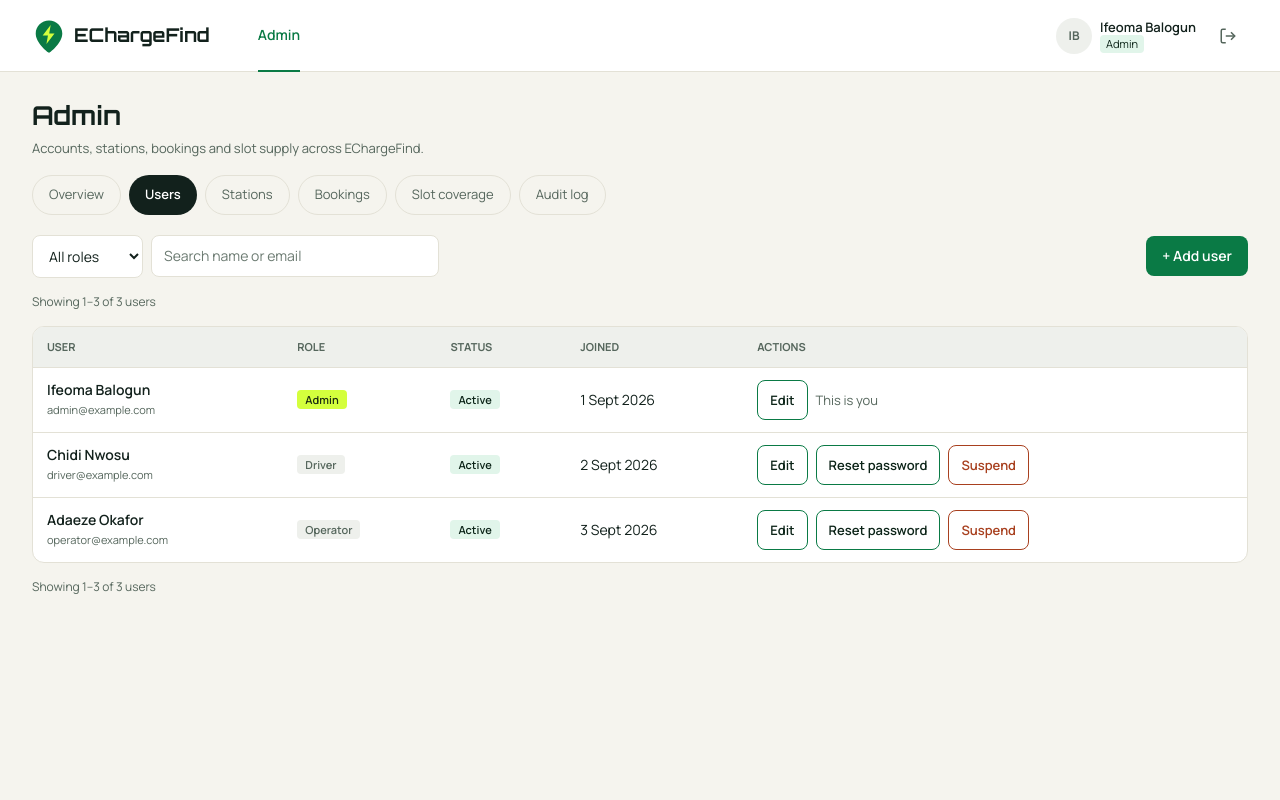
admin users › suspends a user after confirming, then reactivates them
Expected: the text "Chidi Nwosu" is shown, [47, 444, 130, 464]
Expected: the text "Active" in the row of "Chidi Nwosu" is shown, [458, 457, 492, 472]
Click the button with aria-label "Suspend Chidi Nwosu" at (989, 464), box [948, 444, 1029, 484]
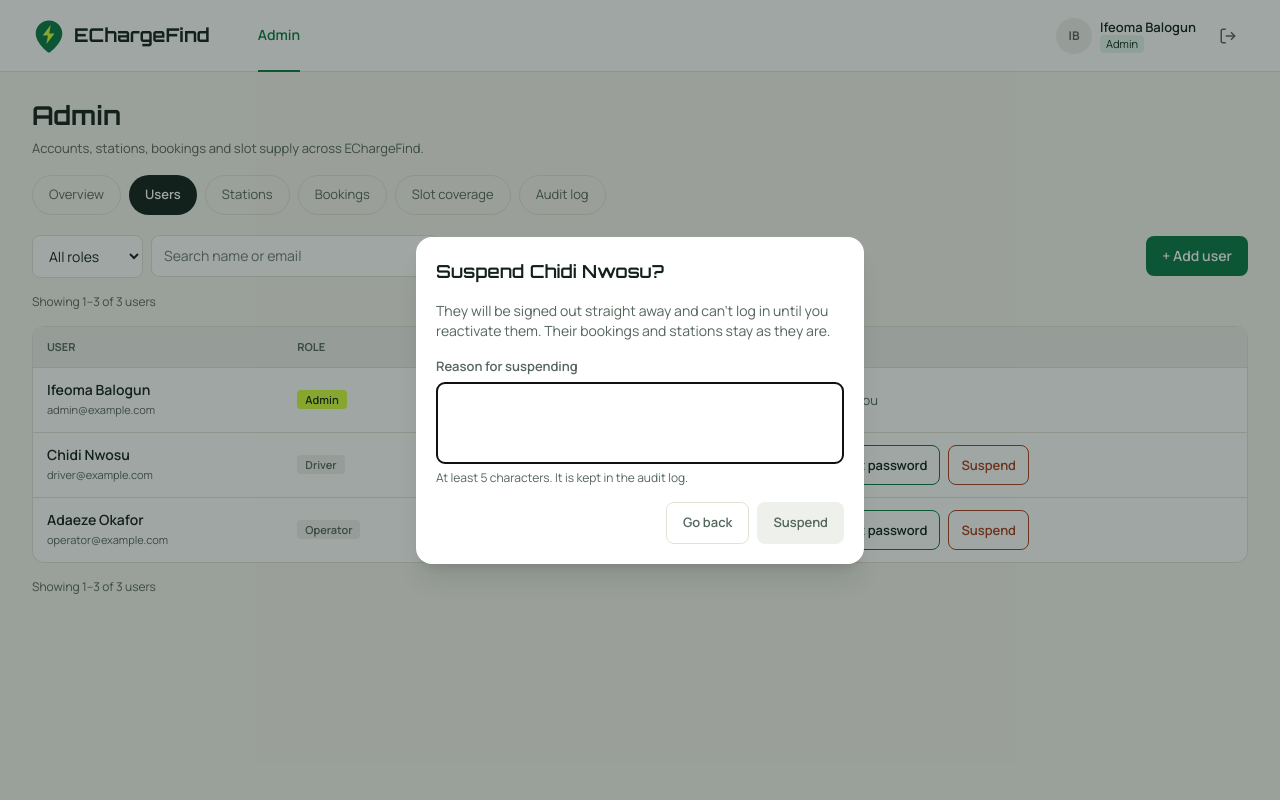
Result: the button "Suspend" is disabled at [757, 502, 844, 544]
Type "abcd" into the text box labelled "Reason for suspending" at (640, 423), box [436, 382, 844, 464]
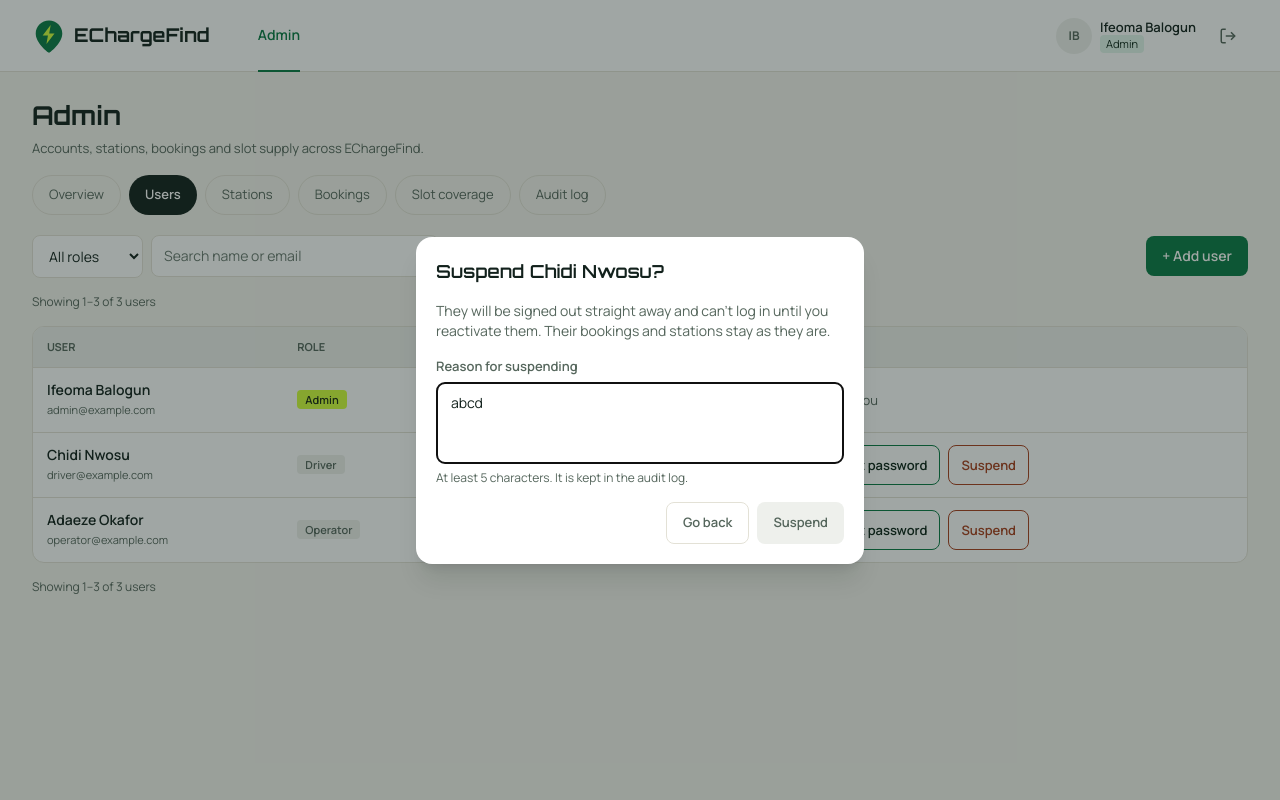
Result: the button "Suspend" is disabled at [757, 502, 844, 544]
Type "e" into the text box labelled "Reason for suspending" at (640, 423), box [436, 382, 844, 464]
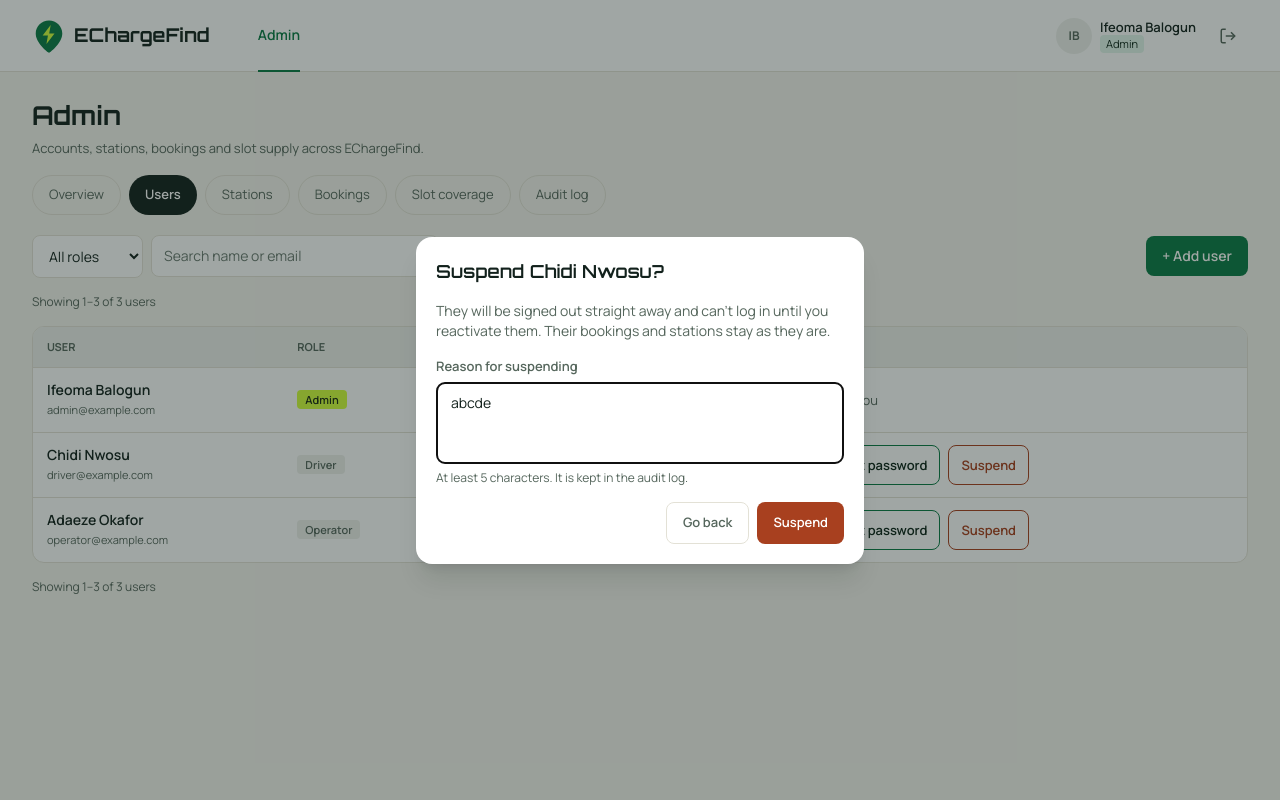
Click the button "Suspend" at (801, 523), box [757, 502, 844, 544]
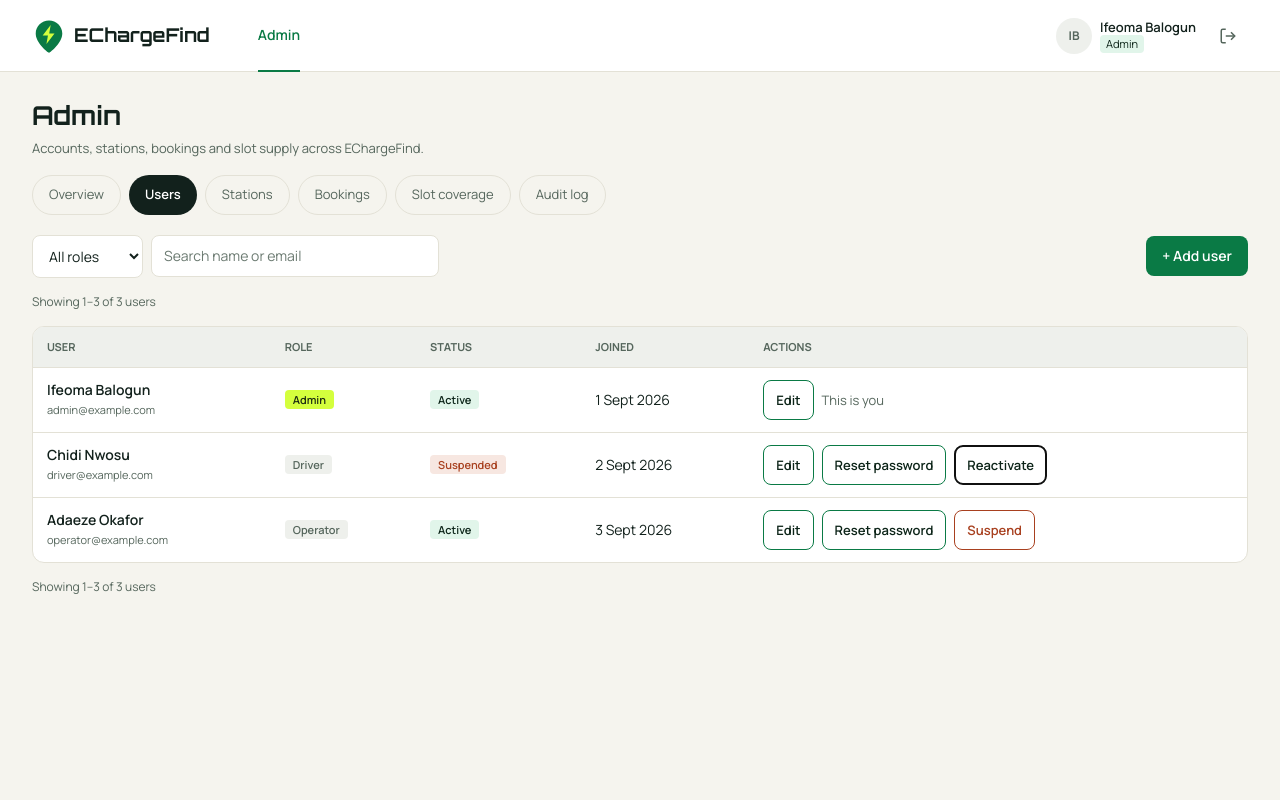
Result: the text "Suspended" is shown at [430, 455, 506, 474]
Result: the dialog is gone
Click the button with aria-label "Reactivate Chidi Nwosu" at (1001, 464), box [954, 444, 1047, 484]
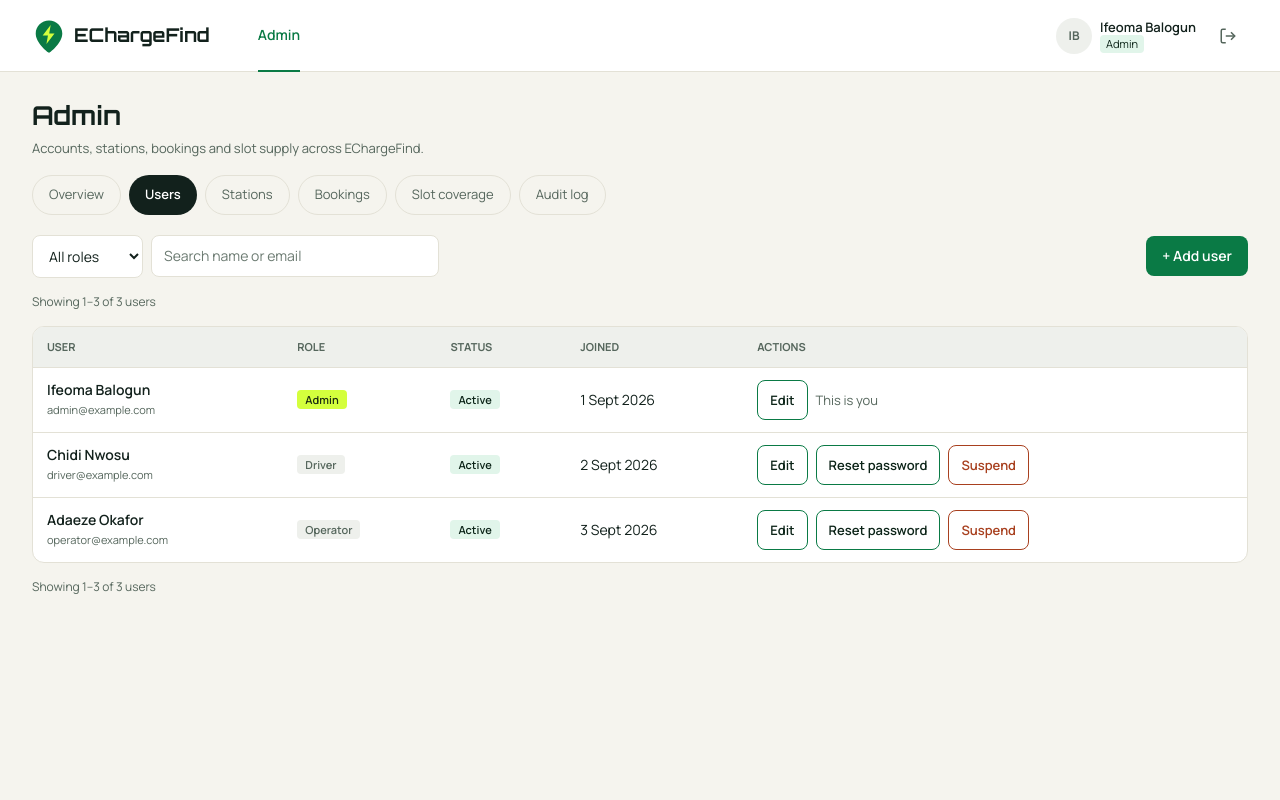
Result: the text "Active" in the row of "Chidi Nwosu" is shown at [458, 457, 492, 472]
